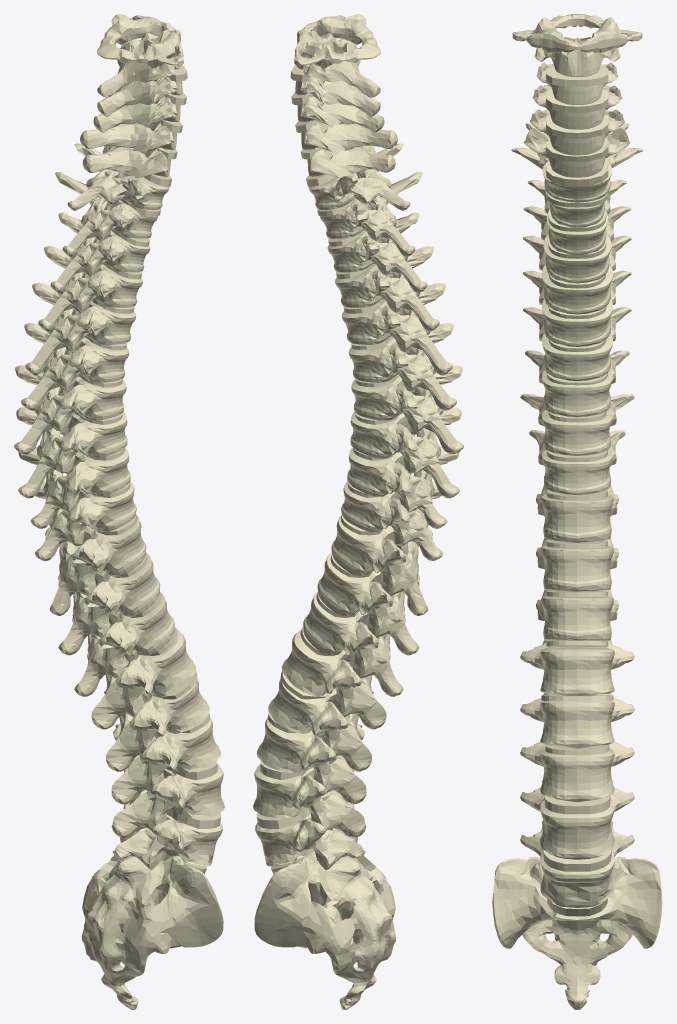
Rendered from spine_compressed.glb.
3 views of the same model, side by side, from view 1: azimuth 30°, elevation 25°; view 2: azimuth 150°, elevation 25°; view 3: azimuth 270°, elevation 25° (orthographic).
Parts seen in each view (by area): view 1: Object_4; view 2: Object_4; view 3: Object_4.
Part boxes in pixels (box(x1,y1,x2,y2)): Object_4: box(14, 14, 224, 1009); Object_4: box(253, 14, 463, 1009); Object_4: box(492, 14, 662, 1009).
Bounding box in the file's own units: 5.73 × 26.67 × 4.14.
1 material, 1 textured.
